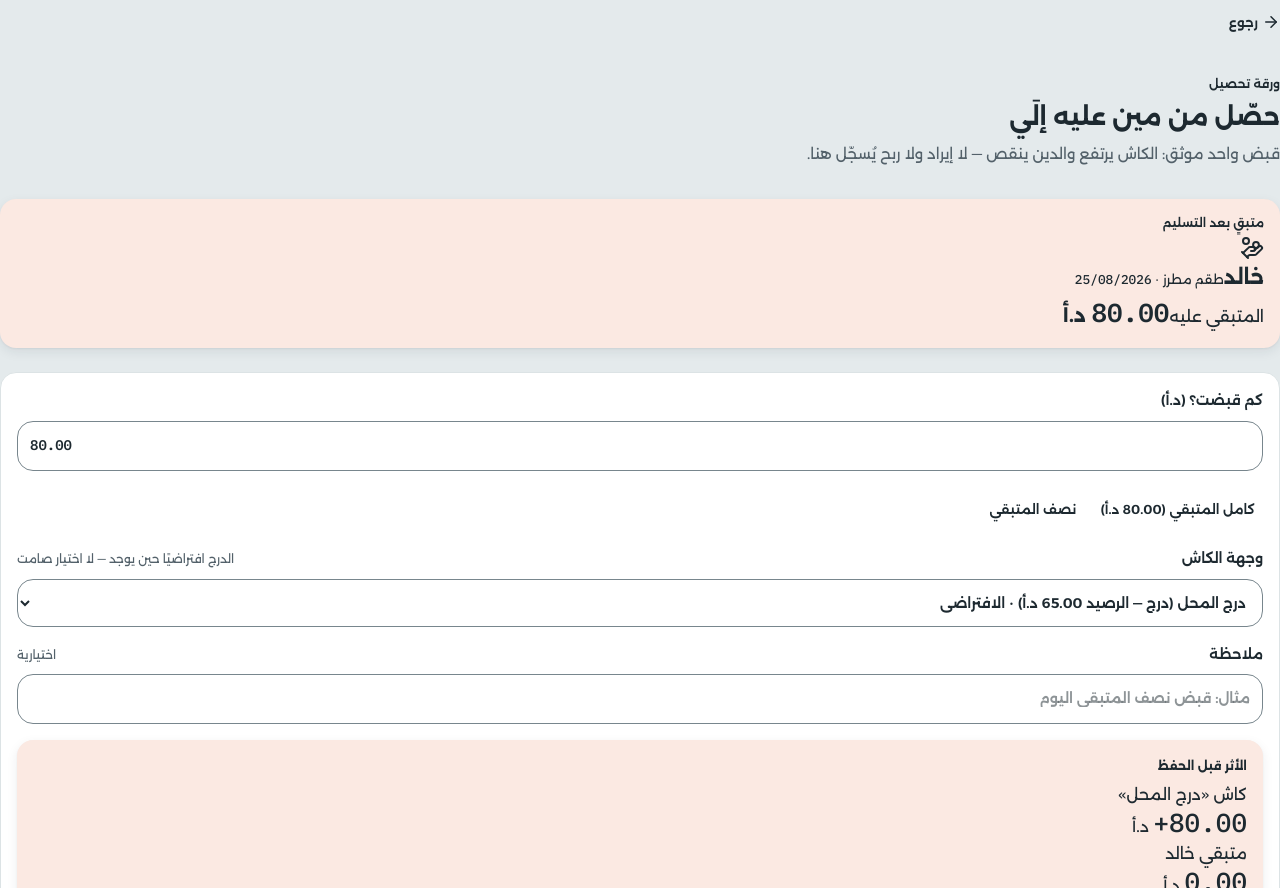
Test: Collect — ورقة التحصيل (المجموعة ٢ §6) › يمنع التحصيل فوق المتبقي ويعرض المتبقي والمطلوب في رسالة الحماية
Expected: the text "خالد" is shown, [1224,236,1264,289]
Replace the text in the field named "مبلغ التحصيل" with "90". click: (640, 446)
box: [17,421,1263,471]
(page scrolled)
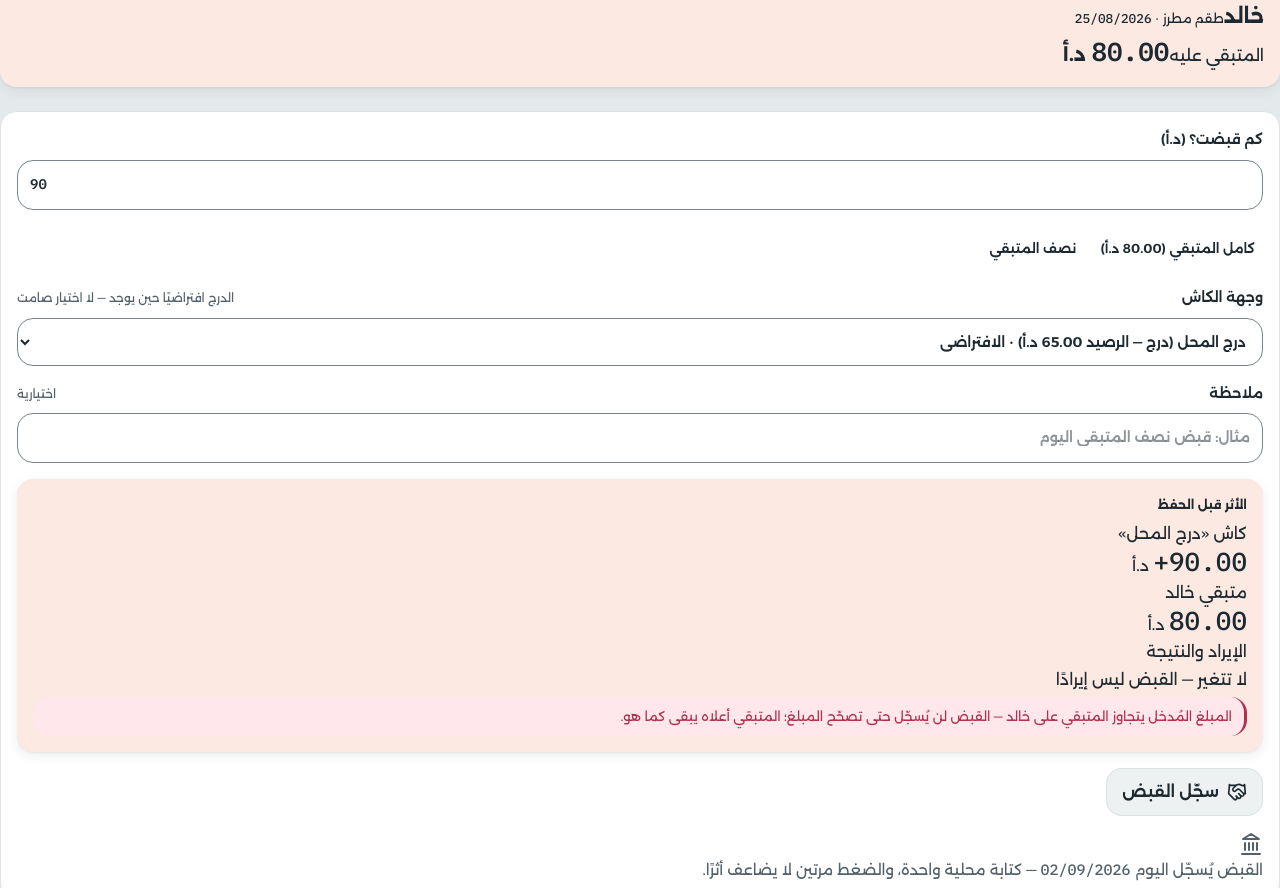
Click the button "سجّل القبض". click: (1185, 792)
box: [1106,768,1263,816]
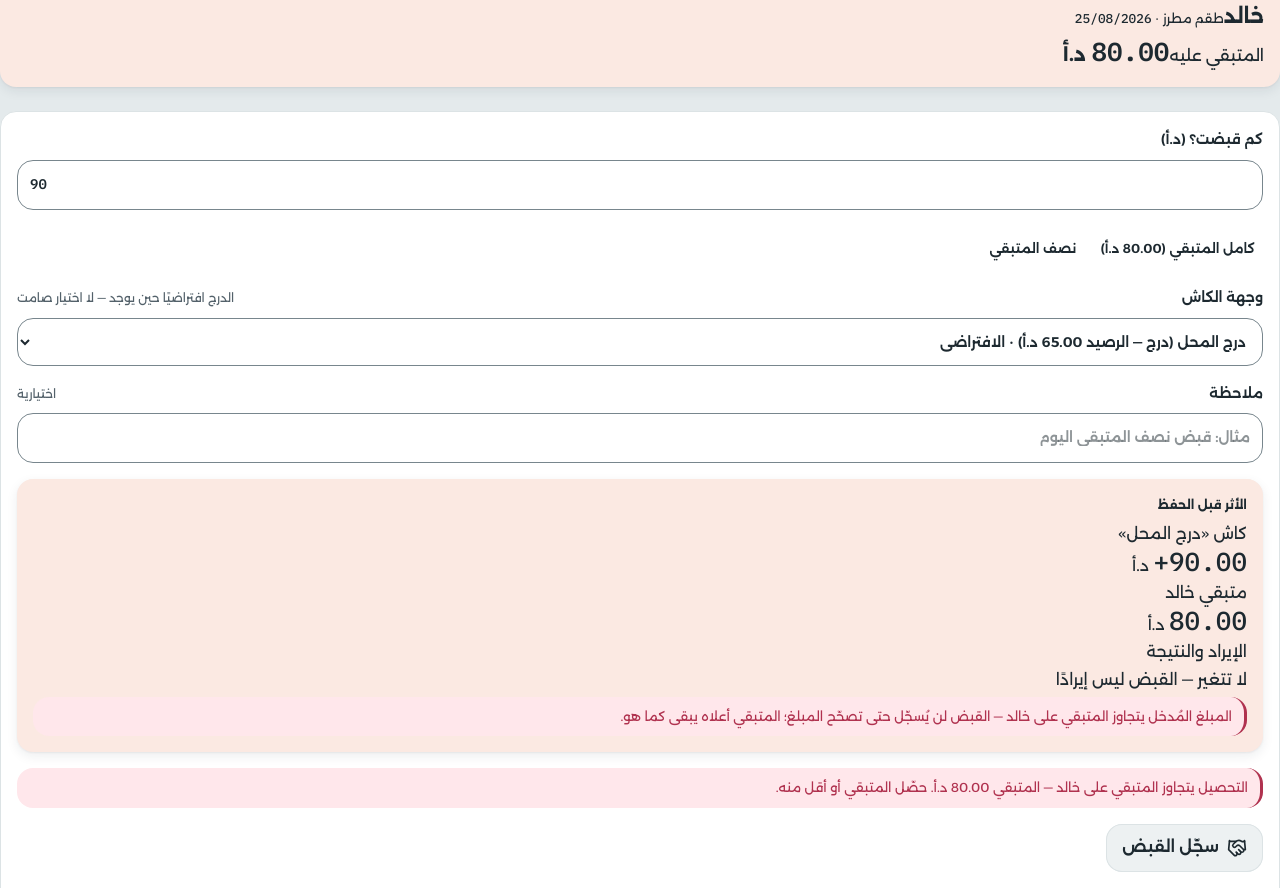
Expected: the text "التحصيل يتجاوز المتبقي على خالد — المتبقي 80.00 د.أ. حصّل المتبقي أو أقل منه." is shown, [17,768,1263,808]
